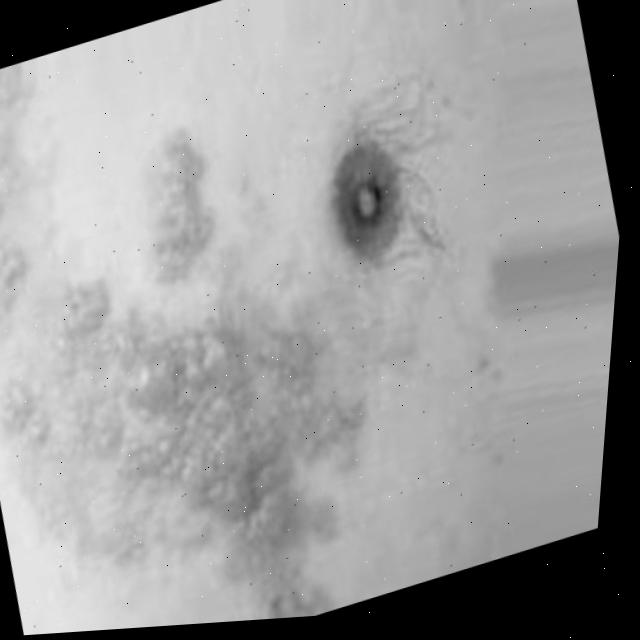Shingles: (0, 0, 412, 640)
